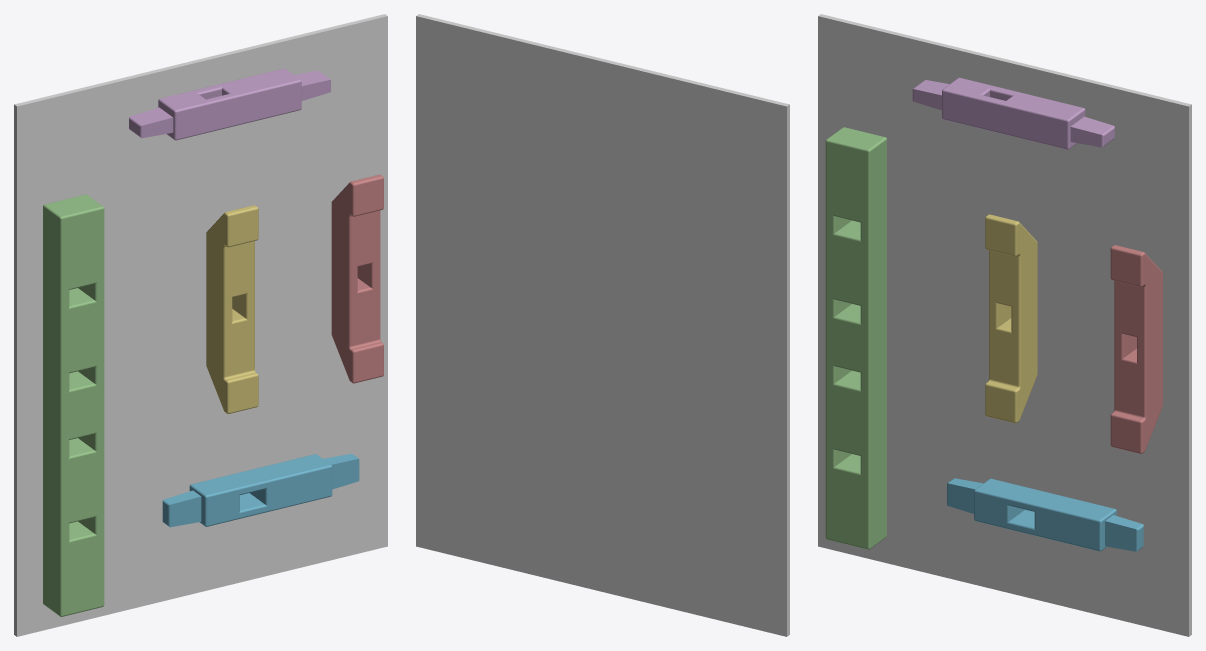
File: pickup_layout.glb
The picture shows the model from 3 angles, left to right: view 1: azimuth 30°, elevation 25°; view 2: azimuth 150°, elevation 25°; view 3: azimuth 330°, elevation 25°; orthographic projection.
Parts seen in each view (by area): view 1: world, 6.obj, 0.obj, 1.obj, 2.obj, 3.obj; view 2: world; view 3: world, 6.obj, 0.obj, 1.obj, 2.obj, 3.obj.
Part boxes in pixels (<box>): world: <box>14,14,387,636</box>; 6.obj: <box>43,194,104,616</box>; 0.obj: <box>331,174,383,383</box>; 1.obj: <box>206,205,258,413</box>; 2.obj: <box>162,453,359,527</box>; 3.obj: <box>129,68,330,140</box>; world: <box>416,14,789,636</box>; world: <box>818,14,1191,636</box>; 6.obj: <box>825,127,886,549</box>; 0.obj: <box>1110,245,1162,453</box>; 1.obj: <box>985,214,1037,423</box>; 2.obj: <box>947,478,1143,551</box>; 3.obj: <box>912,77,1114,149</box>.
Bounding box in the file's own units: 14.77 × 20.2 × 1.72.
